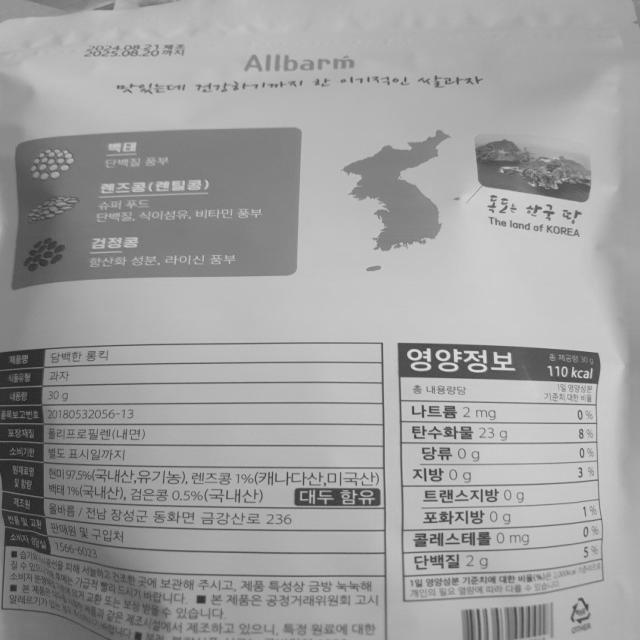Nutrition Label: (388, 333, 614, 605)
